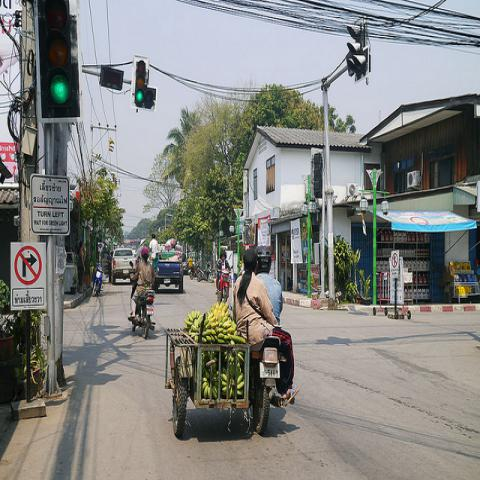motorcycle: (251, 333, 289, 443), (129, 260, 156, 342), (215, 270, 229, 306), (92, 259, 105, 296), (196, 262, 214, 284), (190, 266, 198, 280)
truck: (150, 238, 184, 293), (111, 248, 138, 286)
